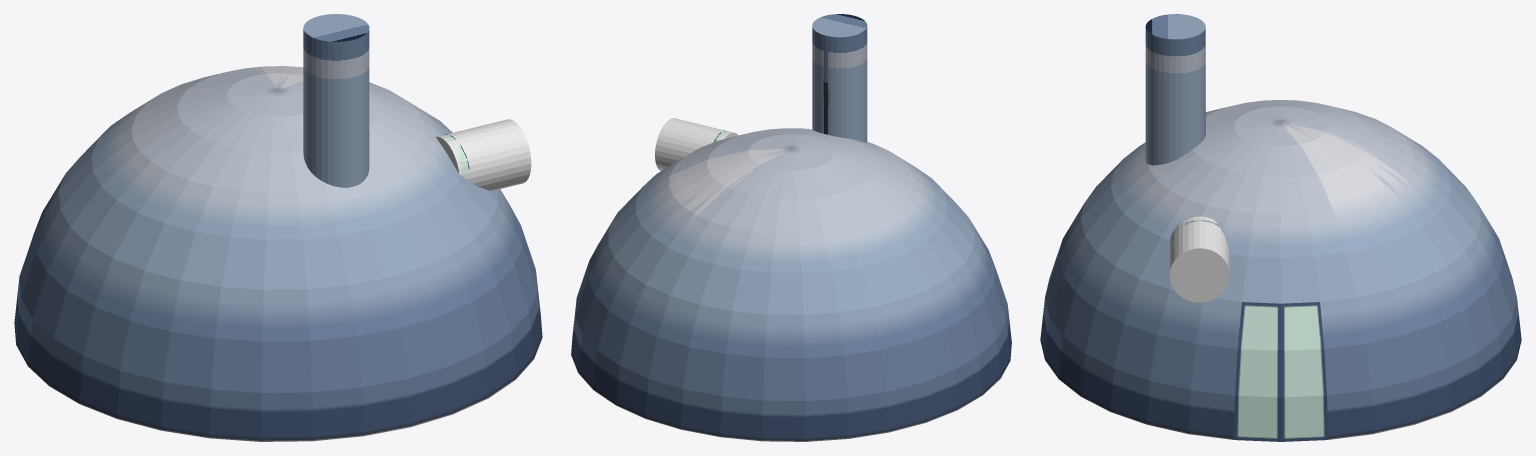
Rendered from ExportedBlenderFBXFile.fbx.
The picture shows the model from 3 angles, left to right: view 1: azimuth 30°, elevation 25°; view 2: azimuth 150°, elevation 25°; view 3: azimuth 270°, elevation 25°; orthographic projection. The views are drawn at different scales.
Visible parts, largest first — view 1: Dome, Cylinder, Cylinder.002; view 2: Dome, Cylinder, Cylinder.002; view 3: Dome, Cylinder, Left Door, Right Door, Cylinder.002.
Boxes of the visible parts, x1=… form: Dome: x1=14, y1=66, x2=542, y2=441; Cylinder: x1=303, y1=14, x2=369, y2=187; Cylinder.002: x1=436, y1=119, x2=531, y2=190; Dome: x1=571, y1=128, x2=1011, y2=441; Cylinder: x1=812, y1=14, x2=867, y2=142; Cylinder.002: x1=655, y1=118, x2=738, y2=170; Dome: x1=1040, y1=100, x2=1521, y2=439; Cylinder: x1=1145, y1=14, x2=1205, y2=165; Left Door: x1=1234, y1=302, x2=1280, y2=441; Right Door: x1=1281, y1=302, x2=1327, y2=441; Cylinder.002: x1=1169, y1=216, x2=1229, y2=302.
Bounding box in the file's own units: 32 × 23 × 32.
